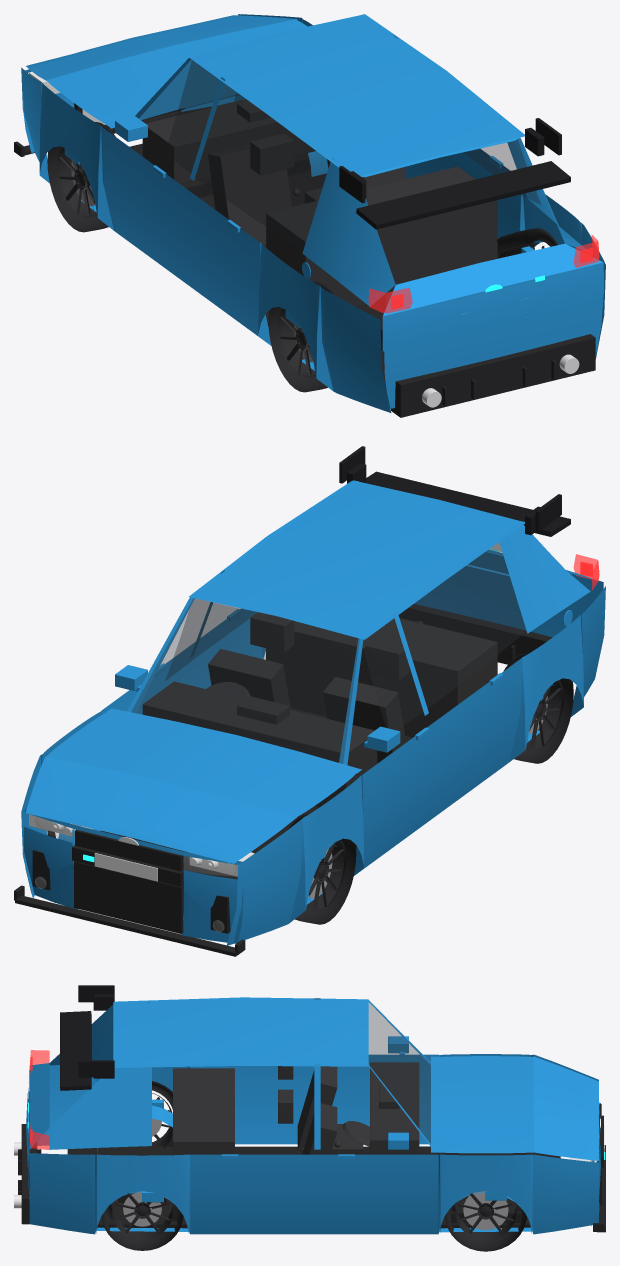
The model's file is Car_Ford_Focus_RS_Mk3_2010s.glb.
The picture shows the model from 3 angles, top to bottom: view 1: azimuth 30°, elevation 25°; view 2: azimuth 150°, elevation 25°; view 3: azimuth 270°, elevation 25°; orthographic projection. The views are drawn at different scales.
Visible parts, largest first — view 1: Cabin, Seats, Side_Greenhouse_Glass, Rear_Bumper_Shell, Diffuser, Rear_Spoiler, Dashboard, Windshield, Chassis, Tire_Wheel_FR, Tire_Wheel_RR, Exterior_Jewelry (+9 smaller); view 2: Cabin, Windshield, Seats, Side_Greenhouse_Glass, Dashboard, RS_Grille_Assembly, Front_Bumper_Shell, Rear_Bumper_Shell, Rear_Spoiler, Diffuser, Front_Splitter, Exterior_Jewelry (+9 smaller); view 3: Cabin, Seats, Dashboard, Windshield, Rear_Spoiler, Chassis, Tire_Wheel_RL, Tire_Wheel_FL, Diffuser, Exterior_Jewelry, BrakeDisc_Wheel_FL, Wheel_Spokes_Wheel_FL (+5 smaller).
Part boxes in pixels (x1,y1,x2,y2): Cabin: (21,14,605,412); Seats: (208,133,497,307); Side_Greenhouse_Glass: (165,60,540,249); Rear_Bumper_Shell: (382,262,603,408); Diffuser: (391,334,595,417); Rear_Spoiler: (339,118,570,229); Dashboard: (142,99,315,196); Windshield: (139,59,239,119); Chassis: (85,143,389,388); Tire_Wheel_FR: (47,122,115,232); Tire_Wheel_RR: (268,282,335,392); Exterior_Jewelry: (115,116,503,278); Cabin: (21,480,605,945); Windshield: (131,598,359,763); Seats: (208,612,497,807); Side_Greenhouse_Glass: (165,542,525,729); Dashboard: (142,681,377,791); RS_Grille_Assembly: (72,829,183,933); Front_Bumper_Shell: (23,808,243,943); Rear_Bumper_Shell: (414,564,596,675); Rear_Spoiler: (339,446,570,536); Diffuser: (398,604,552,664); Front_Splitter: (14,885,245,956); Exterior_Jewelry: (115,609,572,752); Cabin: (29,997,598,1234); Seats: (173,1066,363,1155); Dashboard: (334,1062,419,1154); Windshield: (369,1002,430,1143); Rear_Spoiler: (60,985,114,1090); Chassis: (67,1146,560,1228); Tire_Wheel_RL: (101,1204,183,1250); Tire_Wheel_FL: (445,1204,526,1251); Diffuser: (18,1124,41,1224); Exterior_Jewelry: (221,1036,408,1158); BrakeDisc_Wheel_FL: (463,1191,508,1230); Wheel_Spokes_Wheel_FL: (457,1193,514,1234).
Size of the model in its own units: 1.9 by 1.53 by 4.56.
